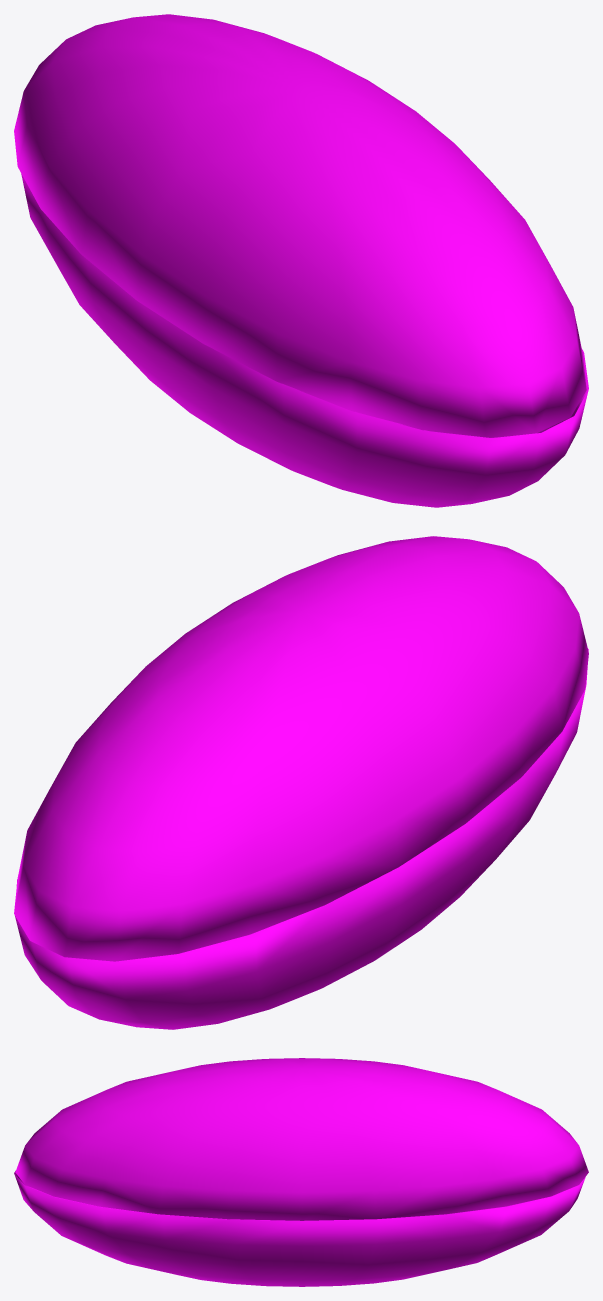
File: Dublesky2.obj
The picture shows the model from 3 angles, top to bottom: view 1: azimuth 30°, elevation 25°; view 2: azimuth 150°, elevation 25°; view 3: azimuth 270°, elevation 25°; orthographic projection. The views are drawn at different scales.
Parts seen in each view (by area): view 1: default.001, default; view 2: default.001, default; view 3: default.001, default.
Boxes of the visible parts, bbox=[...] form: default.001: bbox=[14, 14, 586, 437]; default: bbox=[21, 173, 588, 507]; default.001: bbox=[14, 536, 588, 961]; default: bbox=[15, 648, 588, 1029]; default.001: bbox=[15, 1058, 588, 1220]; default: bbox=[14, 1170, 585, 1286].
Bounding box in the file's own units: 394 × 393 × 985.
